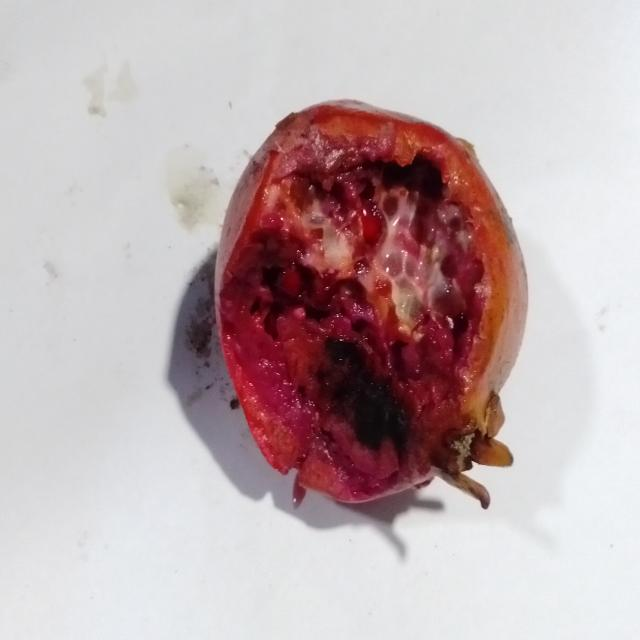Rotten: (214, 90, 537, 525)
